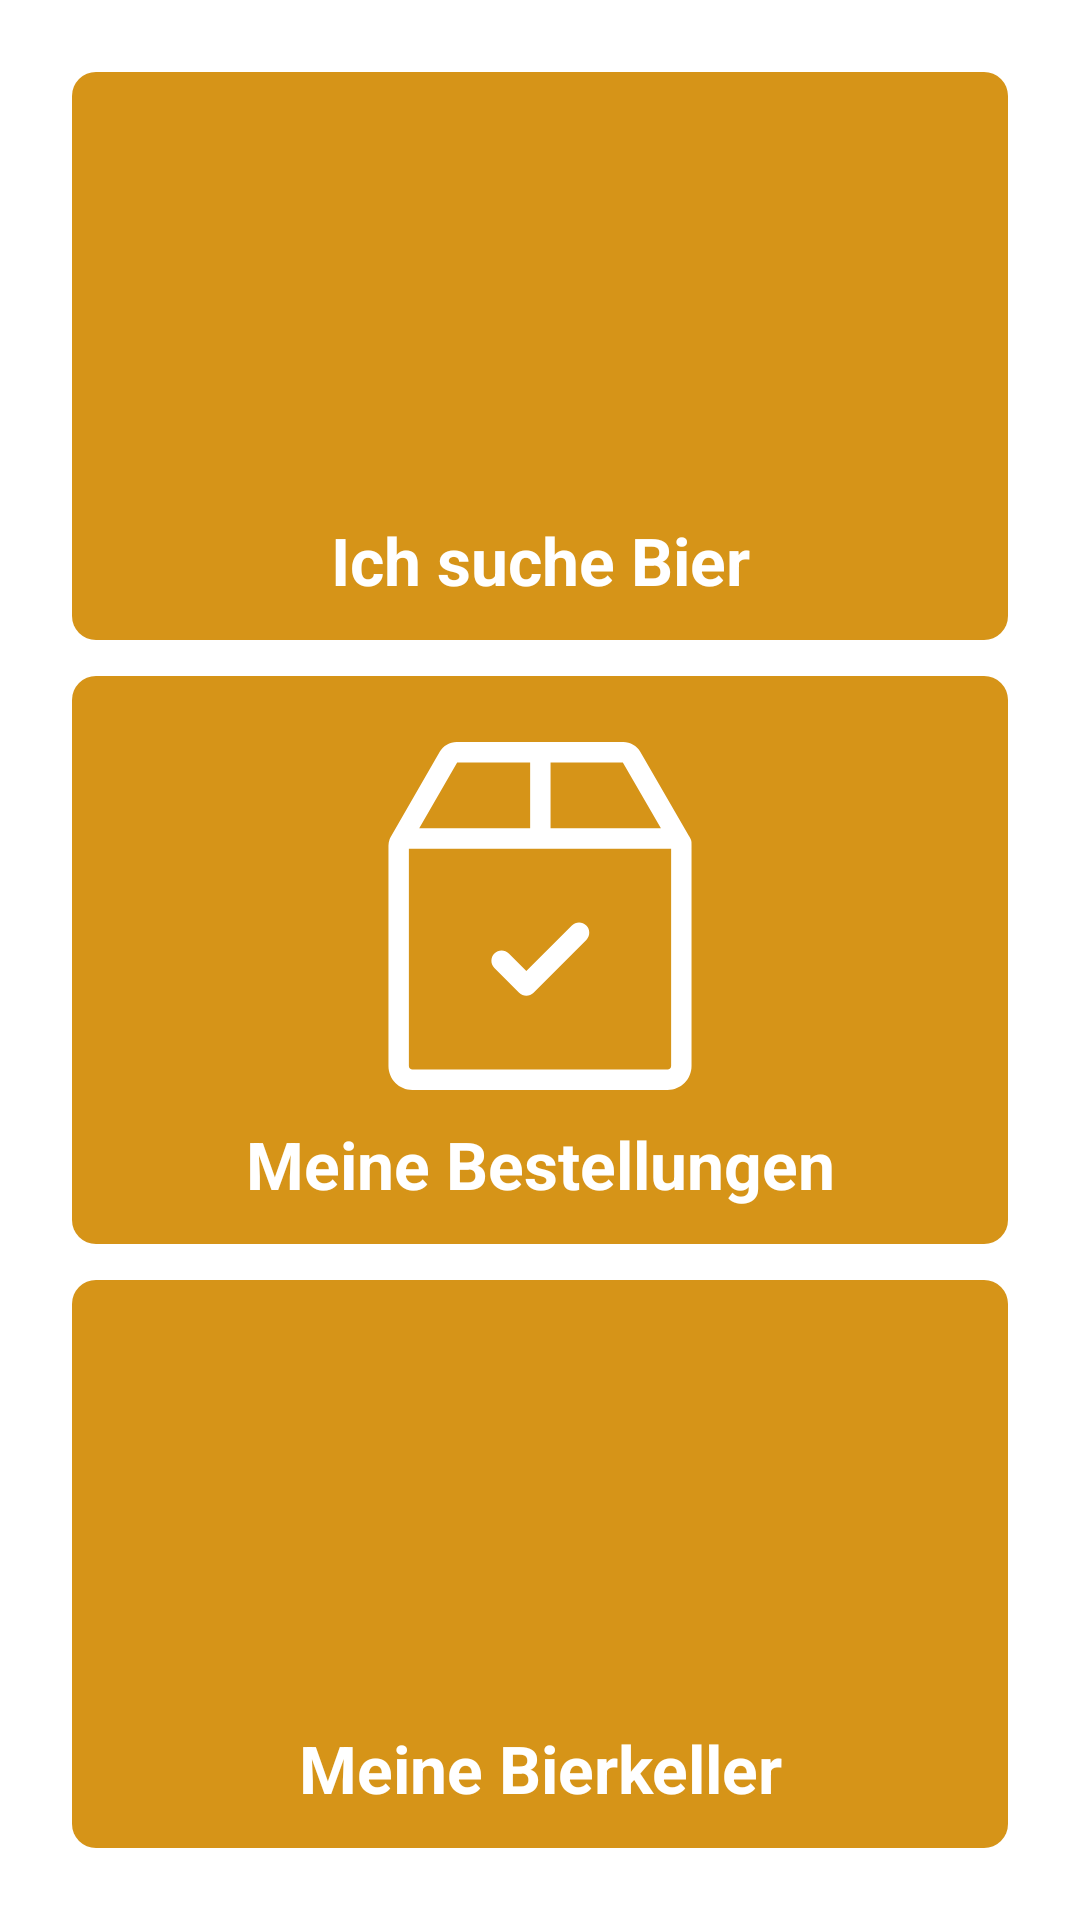

Icons on this 1080px×1920px Android screen, each with its box as (x1, y1, x2, y2):
home sent: (388, 742, 692, 1090)
